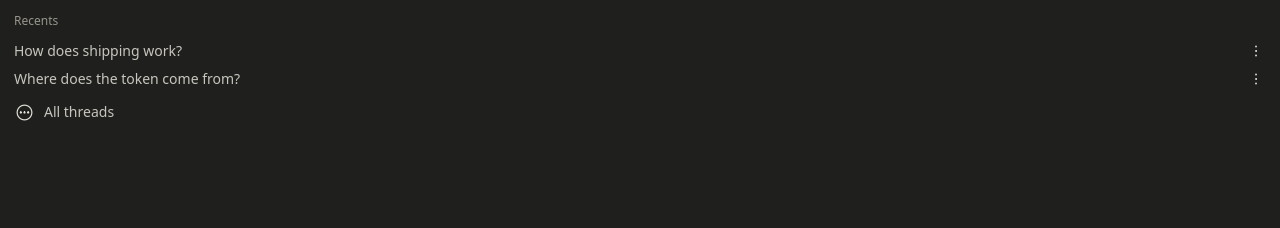
Test: Threads › the row menu › closes when a turn starts under it
Click the button named "Actions for How does shipping work?": (1256, 51) [1244,39,1268,63]
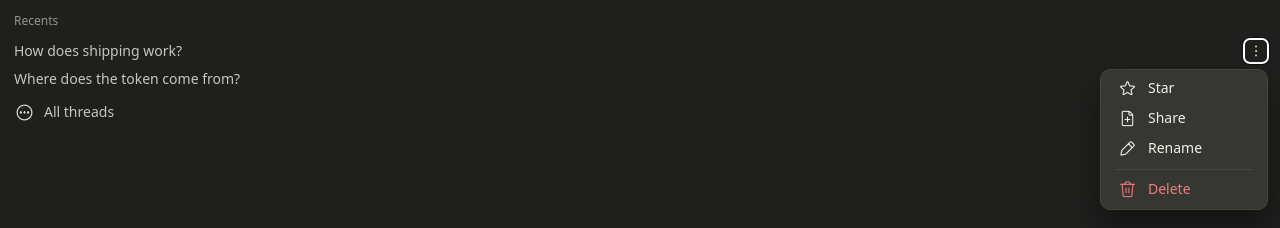
Now the menu is shown, box [1100,69,1268,210]
